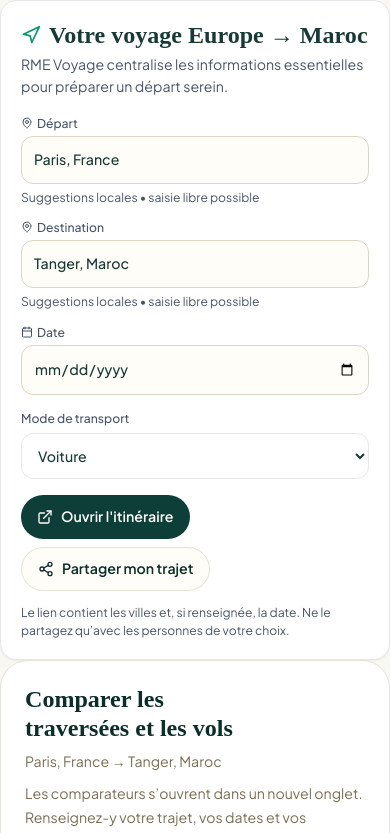
Test: RouteSearch › keeps the selected city after selecting a suggestion (regression test for the lost-selection bug)
Replace the text in the dropdown labelled "Départ" with "Marrakech" at (195, 160), box [21, 136, 369, 184]
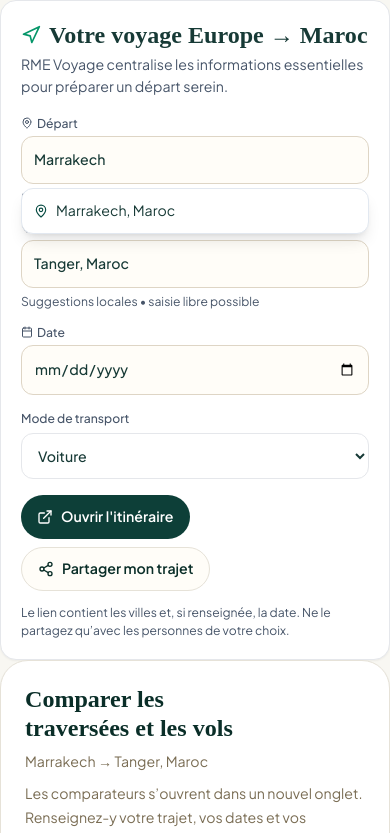
Click the button "Marrakech, Maroc" at (116, 210), box [22, 189, 368, 233]
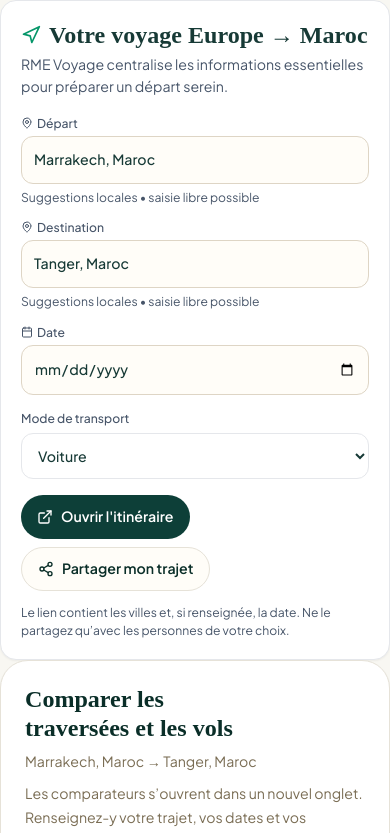
expect the dropdown labelled "Départ" holds "Marrakech, Maroc": met, box [21, 136, 369, 184]
